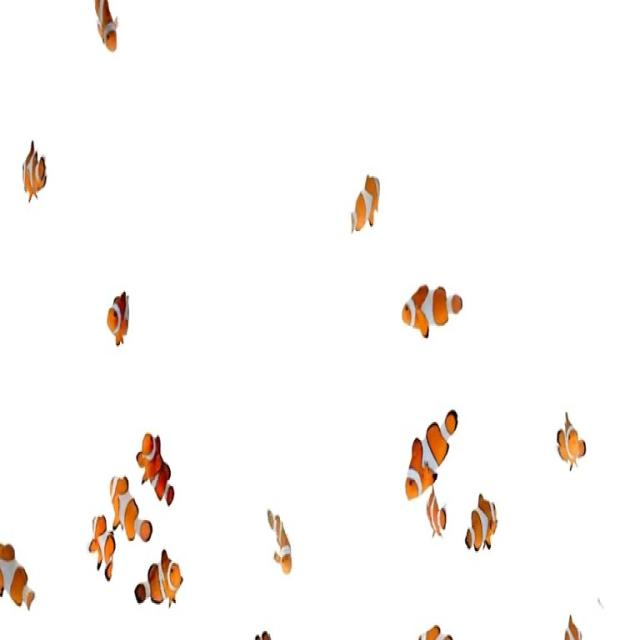fish: (402, 409, 458, 499), (400, 282, 466, 342), (460, 492, 504, 567), (111, 470, 156, 542), (131, 552, 188, 608), (0, 538, 39, 617), (132, 439, 178, 504), (264, 508, 294, 580), (85, 514, 117, 580), (348, 170, 379, 238), (106, 288, 138, 348), (20, 148, 49, 212), (552, 418, 586, 470), (90, 0, 121, 53), (425, 492, 448, 540)
